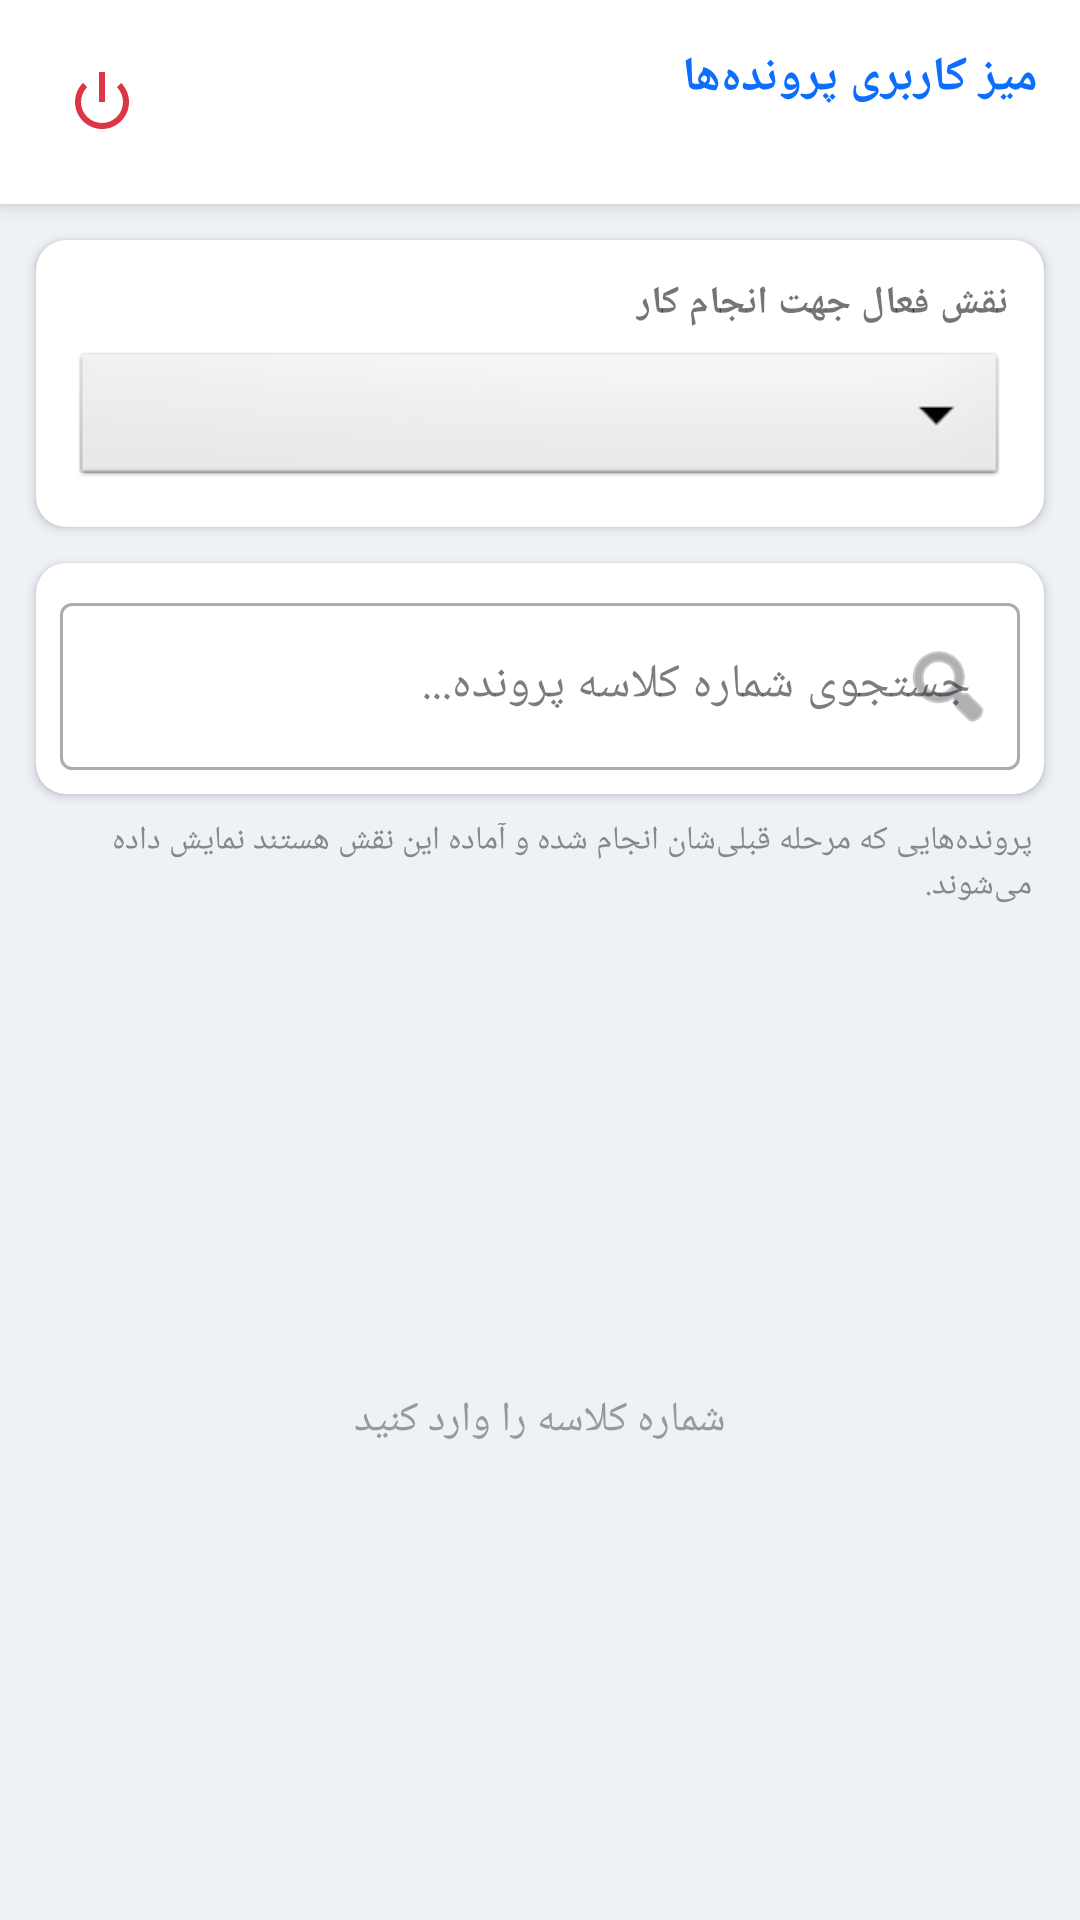

Icon click points for this 1080*1920 phone screenshot, format point (x, y):
خروج: point (102, 100)
